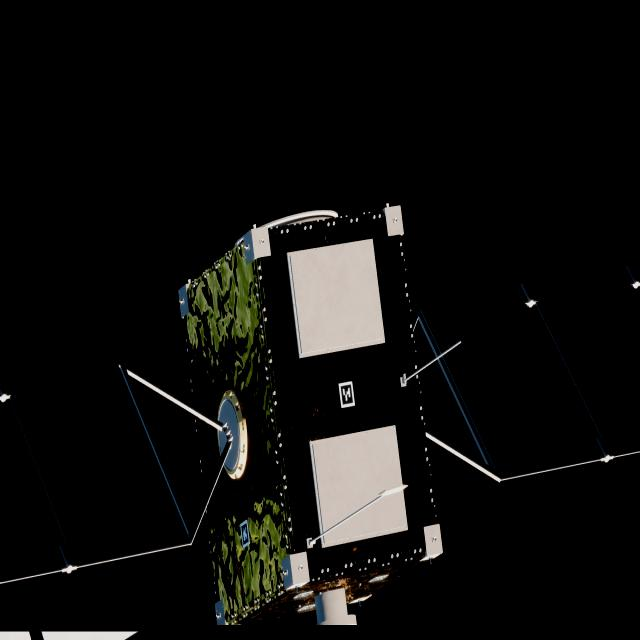satellite: (0, 205, 640, 640)
